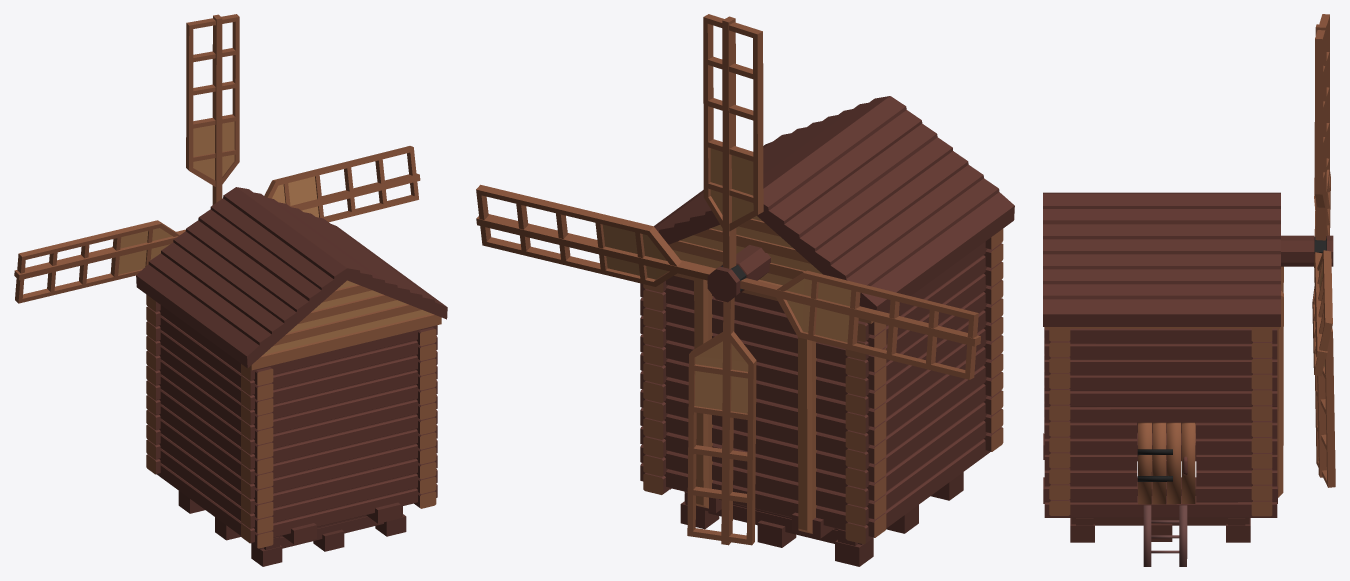
Rendered from mill_LOW_1.fbx.
3 views of the same model, side by side, from view 1: azimuth 30°, elevation 25°; view 2: azimuth 150°, elevation 25°; view 3: azimuth 270°, elevation 25° (orthographic). The views are drawn at different scales.
Visible parts, largest first — view 1: mill, wind; view 2: mill, wind; view 3: mill, wind.
Boxes of the visible parts, x1,y1,x2,y2 form: mill: (136, 187, 447, 566); wind: (14, 14, 420, 303); mill: (640, 96, 1014, 566); wind: (476, 14, 980, 545); mill: (1043, 192, 1283, 566); wind: (1281, 14, 1335, 487).
Size of the model in its own units: 506 by 544 by 298.
